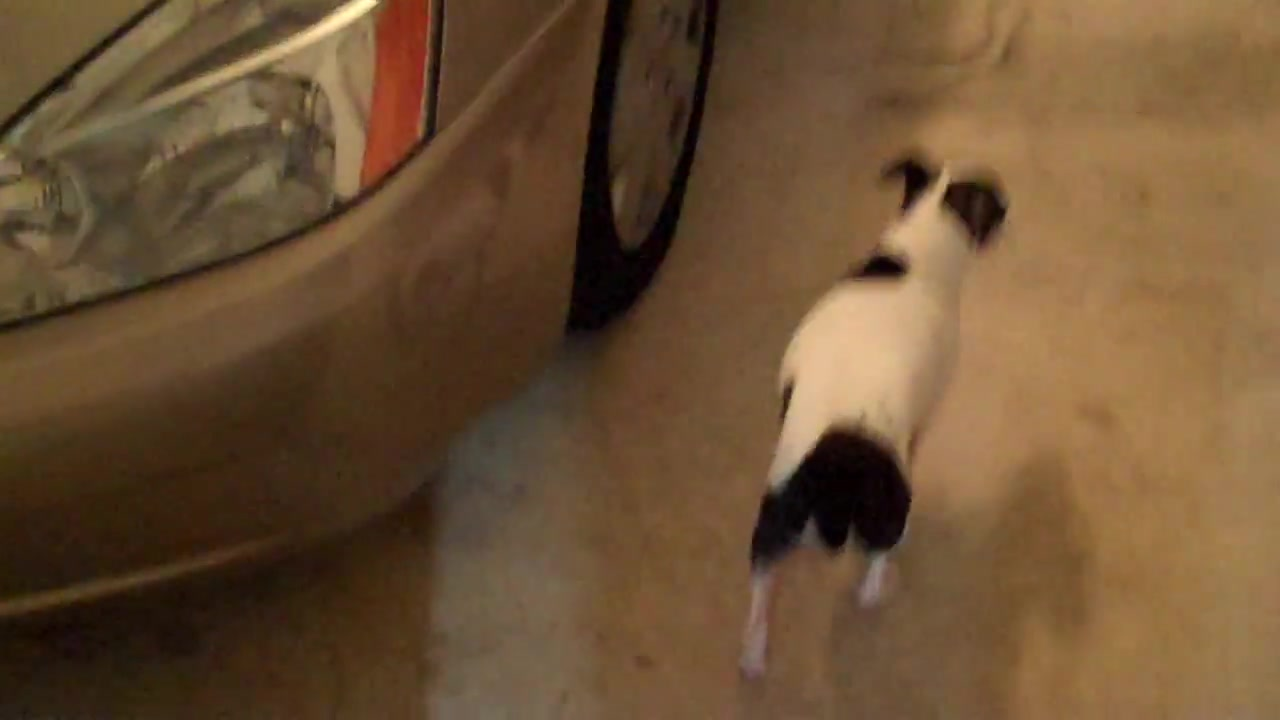dog: (738, 147, 1011, 678)
